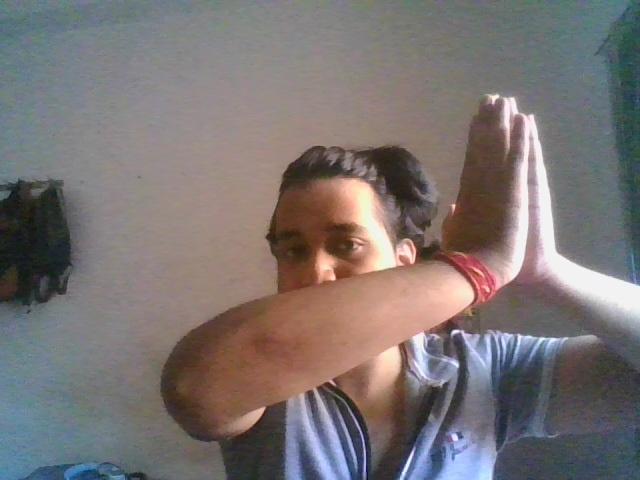ThankYou: (440, 93, 556, 290)
